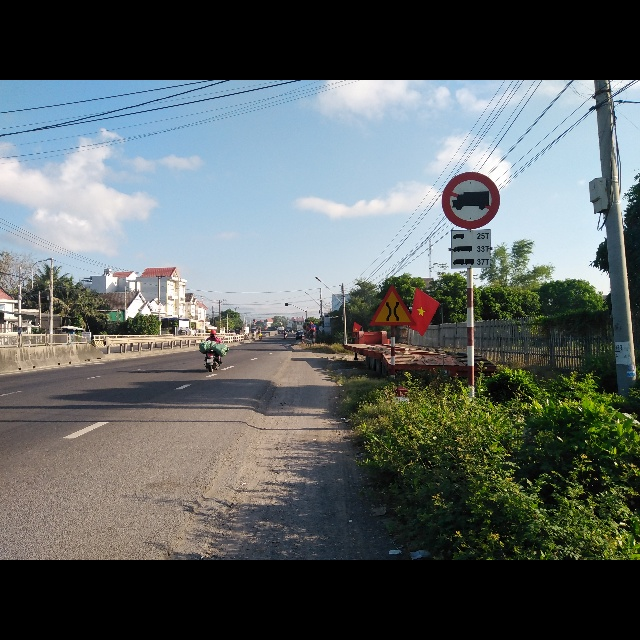Cấm xe tải: (440, 170, 501, 229)
Cầu hẹp: (369, 287, 415, 328)
